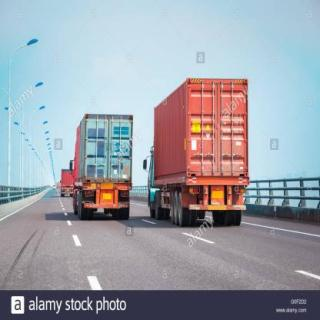Normal_vehicle: (146, 73, 252, 233)
